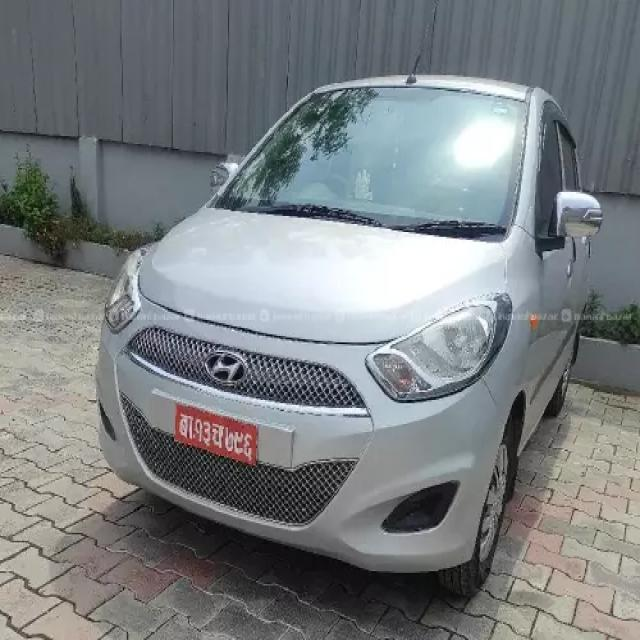License-plate: (175, 405, 257, 466)
